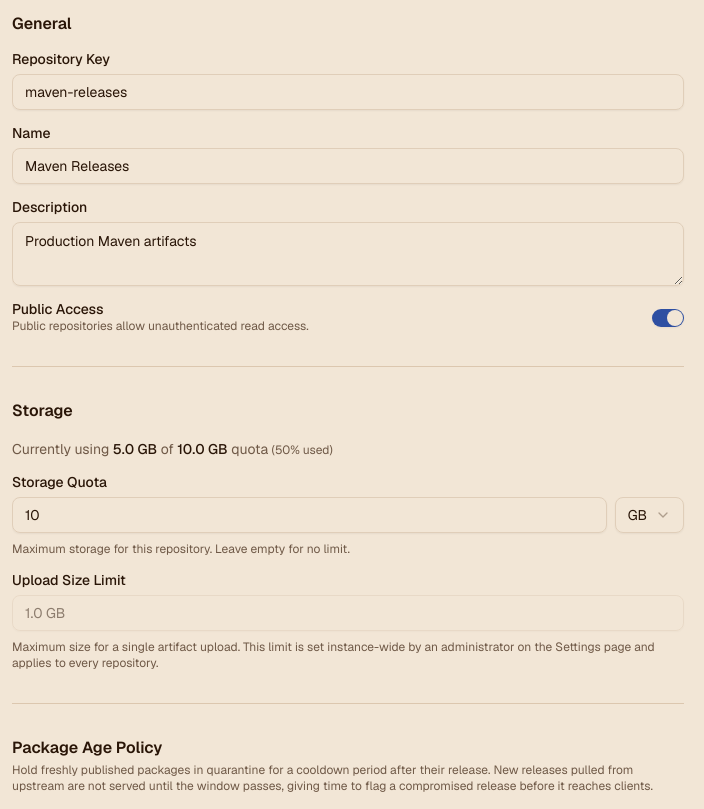
Test: RepoSettingsTab - General Section › discards changes when discard button is clicked
Replace the text in the field labelled "Name" with "Changed" at [348, 166], box [12,148,684,184]
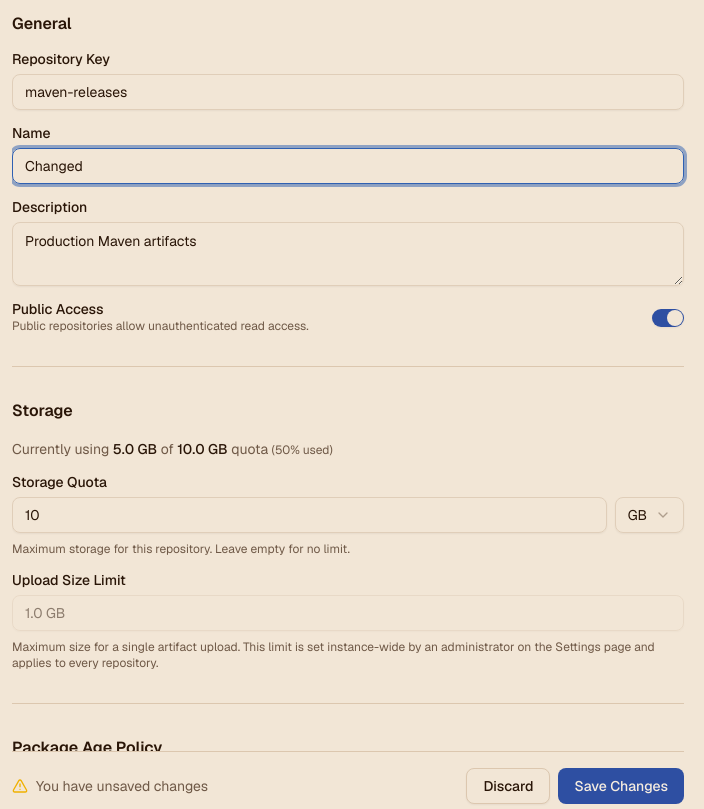
Expected: the text "You have unsaved changes" is shown, [36,776,208,796]
Click the button "Discard" at [508, 786], box [466,768,550,804]
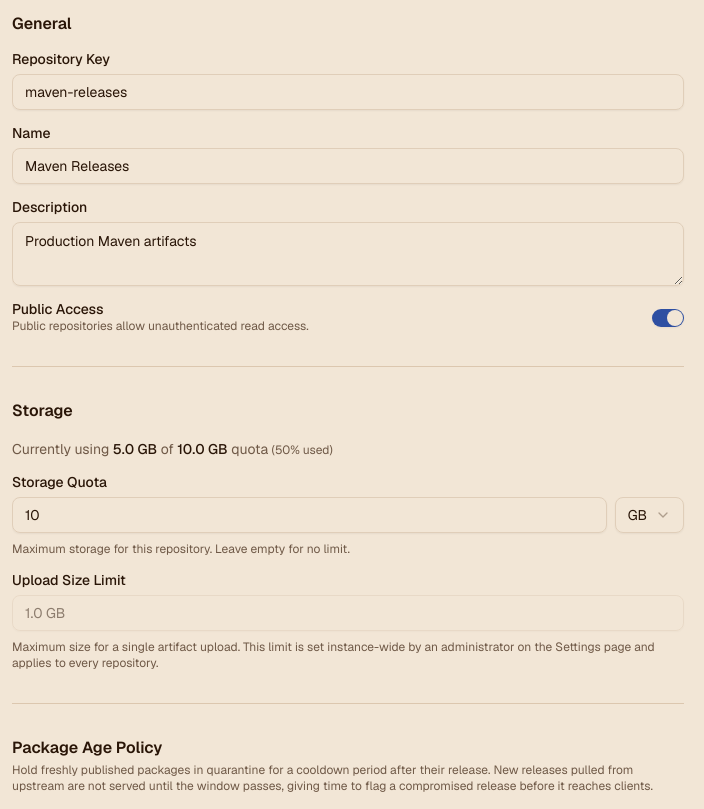
Expected: the text "You have unsaved changes" is gone
Expected: the field labelled "Name" holds "Maven Releases", [12,148,684,184]
